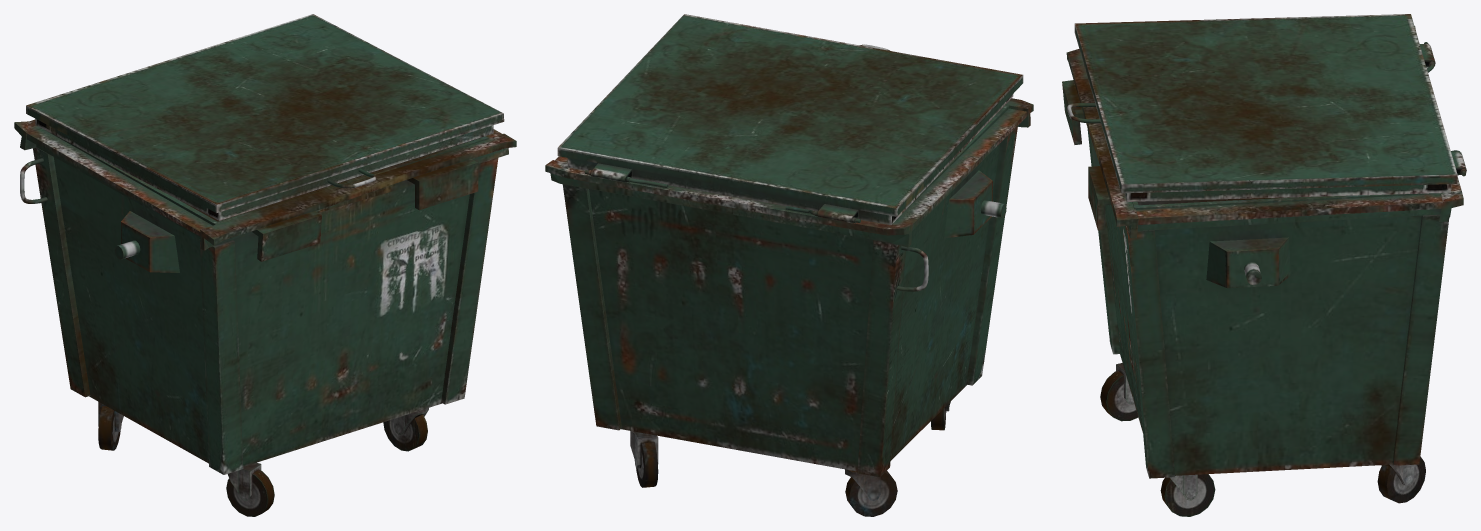
The model's file is trash_bin.glb.
3 views of the same model, side by side, from view 1: azimuth 30°, elevation 25°; view 2: azimuth 150°, elevation 25°; view 3: azimuth 270°, elevation 25° (orthographic). The views are drawn at different scales.
Visible parts, largest first — view 1: trash_can_finish, cap, wheel_1, wheel_2, wheel_3; view 2: trash_can_finish, cap, wheel_3, wheel_4; view 3: trash_can_finish, cap, wheel_2, wheel_4, wheel_1.
Boxes of the visible parts, left/top/right/bottom form: trash_can_finish: left=14, top=119, right=516, bottom=474; cap: left=26, top=14, right=504, bottom=220; wheel_1: left=226, top=462, right=274, bottom=516; wheel_2: left=383, top=408, right=428, bottom=451; wheel_3: left=98, top=402, right=123, bottom=450; trash_can_finish: left=545, top=98, right=1033, bottom=477; cap: left=557, top=14, right=1023, bottom=224; wheel_3: left=845, top=469, right=897, bottom=516; wheel_4: left=630, top=431, right=658, bottom=487; trash_can_finish: left=1062, top=26, right=1465, bottom=478; cap: left=1067, top=14, right=1466, bottom=201; wheel_2: left=1160, top=474, right=1215, bottom=516; wheel_4: left=1377, top=456, right=1425, bottom=503; wheel_1: left=1100, top=363, right=1138, bottom=421.
Bounding box in the file's own units: 1.38 × 1.2 × 1.21.
1 material, 1 textured.
